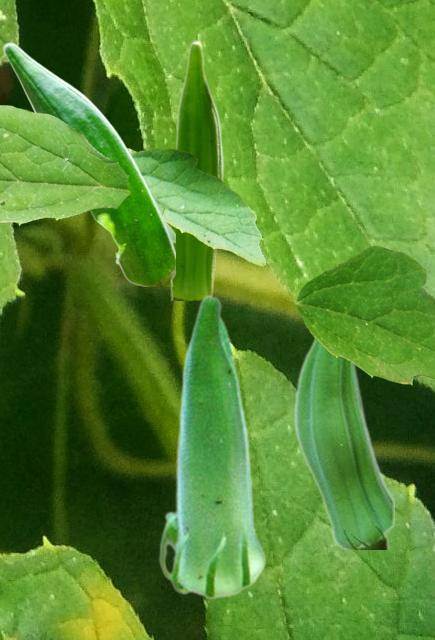okra: (2, 42, 174, 285), (158, 294, 266, 599), (293, 338, 393, 548), (169, 39, 223, 299)
